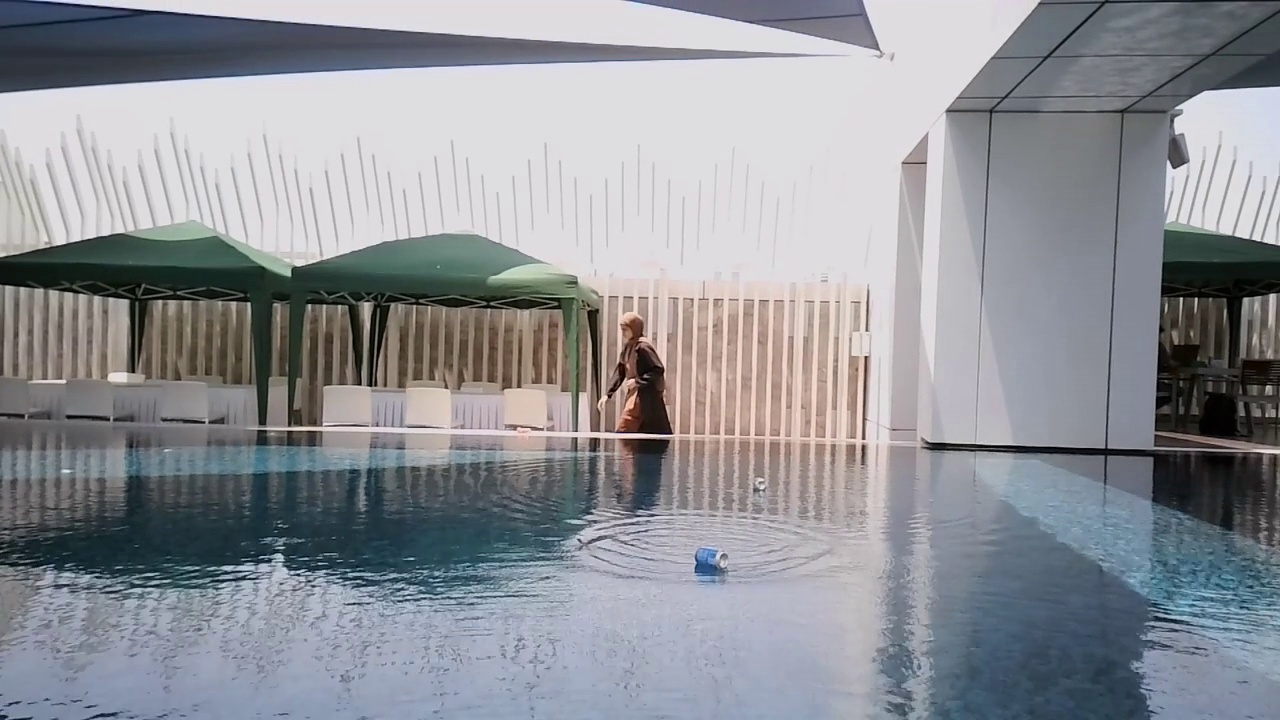debris: (693, 542, 732, 575), (752, 474, 768, 492), (514, 423, 534, 437)
